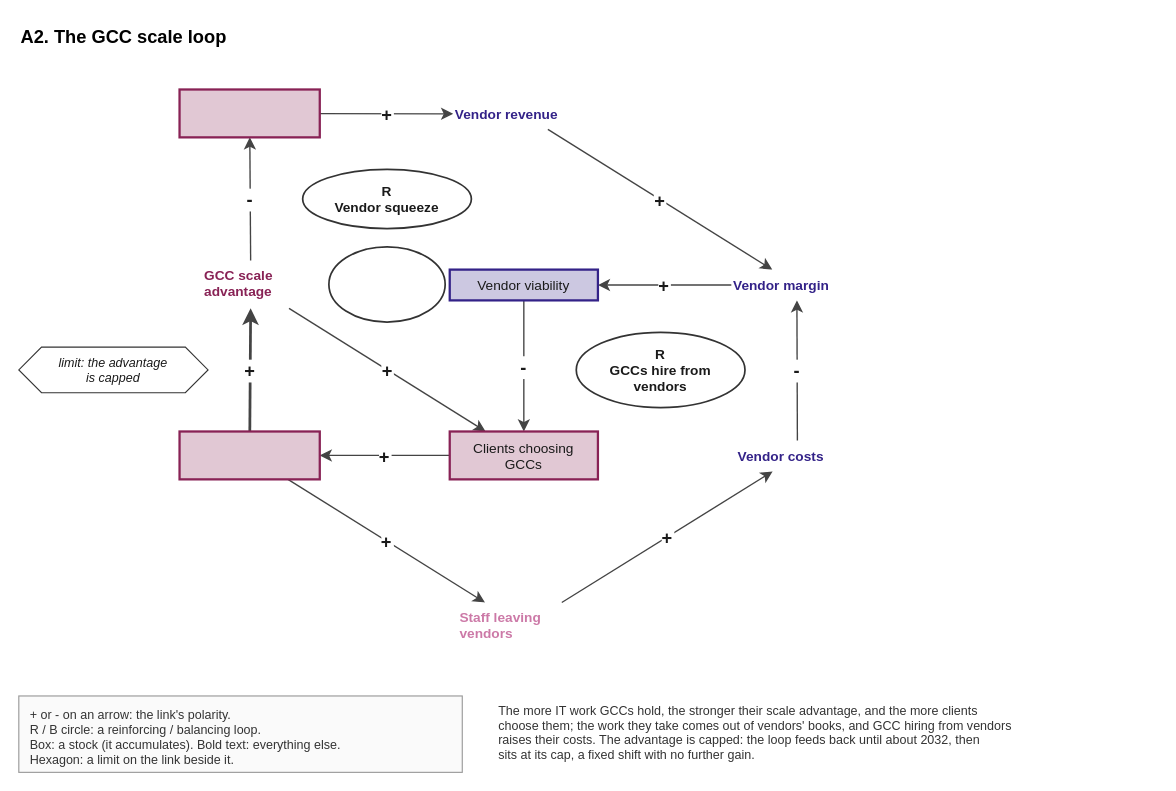
Some shapes in this 1176 by 791 pixel diagram are drawn without their labels. Here are the shapes that lost their labels. From the top down, the box of each, then its label:
(178, 88, 320, 138): Vendor share of work
(328, 245, 446, 322): R GCC scale (capped)
(178, 430, 320, 480): GCC share of IT work
